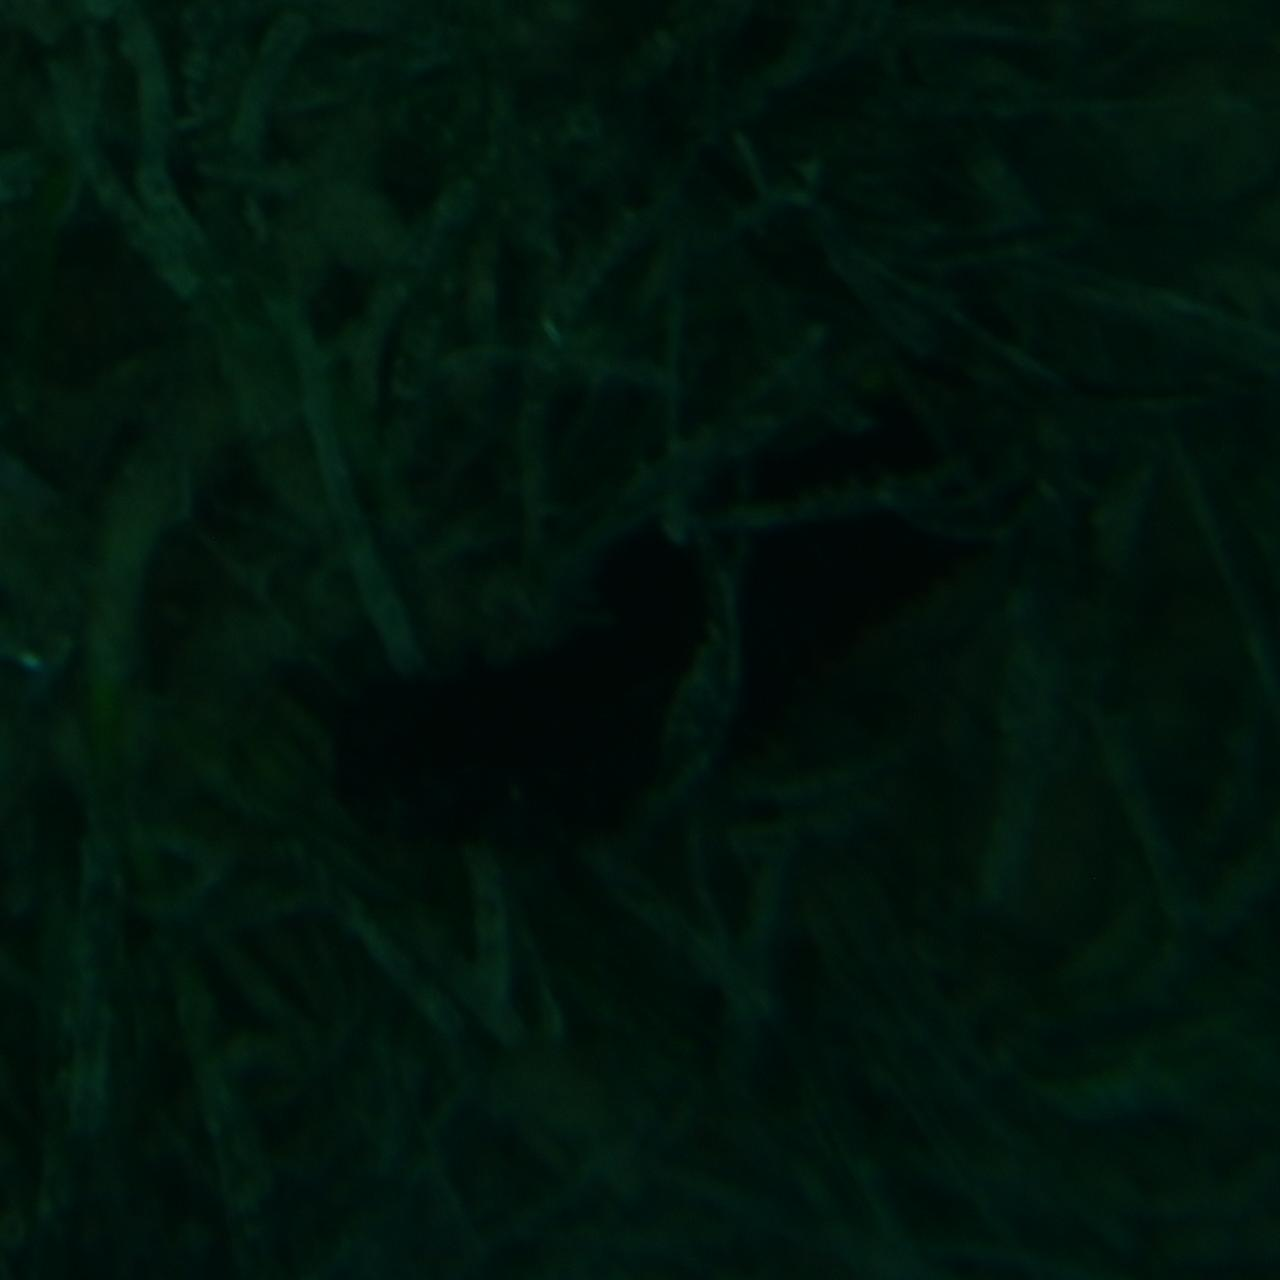Holothuria tubulosa: (310, 398, 970, 882)
